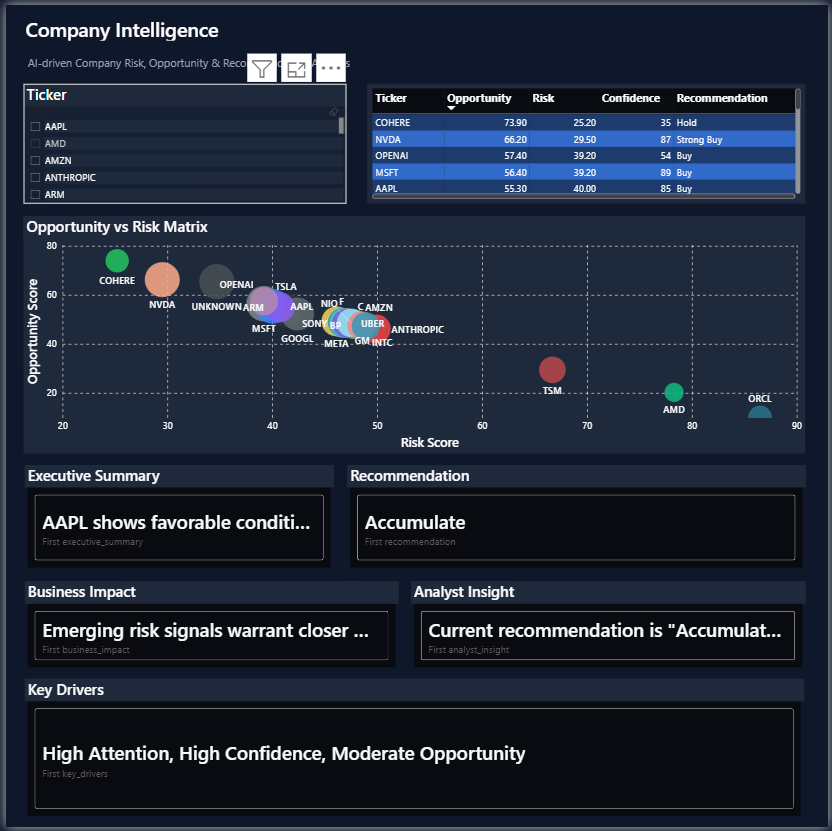

The page's visual inventory and layout, read from the dashboard file:
{"tool":"powerbi","page":{"name":"Company Intelligence","canvas":[1400,1400],"ordinal":1},"visuals":[{"type":"textbox","box":[32.6,80.4,584.8,34.8],"z":1000},{"type":"slicer","title":"Ticker","fields":{"Values":["company_intelligence.Ticker"]},"box":[30.4,134.8,550,204.3],"z":2000},{"type":"scatterChart","title":"Opportunity vs Risk Matrix","fields":{"X":["Sum(company_intelligence.risk score)"],"Y":["Sum(company_intelligence.opportunity score)"],"Size":["Sum(company_intelligence.confidence score)"],"Series":["company_intelligence.Ticker"]},"box":[30.4,358.7,1330.4,404.3],"z":3000},{"type":"tableEx","fields":{"Values":["company_intelligence.Ticker","Sum(company_intelligence.opportunity score)","Sum(company_intelligence.risk score)","Sum(company_intelligence.confidence score)","company_intelligence.recommendation"]},"box":[615.2,134.8,745.7,204.3],"z":4000},{"type":"cardVisual","title":"Recommendation","fields":{"Data":["Min(company_intelligence.recommendation)"]},"box":[580.4,782.6,780.4,180.4],"z":5000},{"type":"cardVisual","title":"Business Impact","fields":{"Data":["Min(company_intelligence.business_impact)"]},"box":[32.6,980.4,637,152.2],"z":6000},{"type":"cardVisual","title":"Analyst Insight","fields":{"Data":["Min(company_intelligence.analyst_insight)"]},"box":[689.1,980.4,671.7,152.2],"z":7000},{"type":"cardVisual","title":"Key Drivers","fields":{"Data":["Min(company_intelligence.key_drivers)"]},"box":[32.6,1147.8,1326.1,239.1],"z":8000},{"type":"cardVisual","title":"Executive Summary","fields":{"Data":["Min(company_intelligence.executive_summary)"]},"box":[32.6,782.6,526.1,180.4],"z":9000},{"type":"cardVisual","fields":{"Data":["company_intelligence.Company Title"]},"box":[4.3,0,639.1,78.3],"z":9001}]}

Visuals, with their boxes in screenshot pixels (x1, y1, x2, y2), scaled from the page's 1400x1400 canvas onto the 832x831 screenshot:
textbox: (left=19, top=48, right=367, bottom=68)
"Ticker" slicer: (left=18, top=80, right=345, bottom=201)
"Opportunity vs Risk Matrix" scatterChart: (left=18, top=213, right=809, bottom=453)
tableEx - company_intelligence.Ticker x Sum(company_intelligence.opportunity score): (left=366, top=80, right=809, bottom=201)
"Recommendation" cardVisual: (left=345, top=465, right=809, bottom=572)
"Business Impact" cardVisual: (left=19, top=582, right=398, bottom=672)
"Analyst Insight" cardVisual: (left=410, top=582, right=809, bottom=672)
"Key Drivers" cardVisual: (left=19, top=681, right=807, bottom=823)
"Executive Summary" cardVisual: (left=19, top=465, right=332, bottom=572)
cardVisual - company_intelligence.Company Title: (left=3, top=0, right=382, bottom=46)
